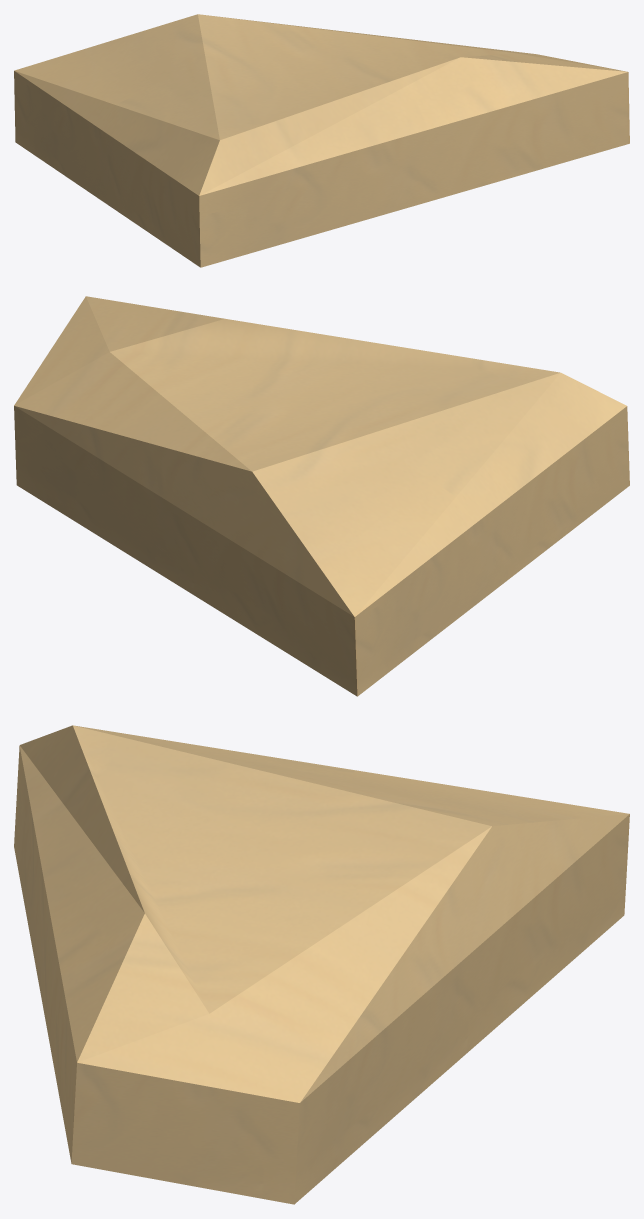
Rendered from TileE.FBX.
The picture shows the model from 3 angles, top to bottom: view 1: azimuth 30°, elevation 25°; view 2: azimuth 150°, elevation 25°; view 3: azimuth 270°, elevation 25°; orthographic projection. The views are drawn at different scales.
Parts seen in each view (by area): view 1: TileE; view 2: TileE; view 3: TileE.
Part boxes in pixels (x1,y1,x2,y2): TileE: (14, 14, 629, 267); TileE: (14, 296, 629, 696); TileE: (14, 725, 629, 1204).
Bounding box in the file's own units: 3.35 × 2.74 × 0.9813.
Materials: 1 (1 with a texture image).
